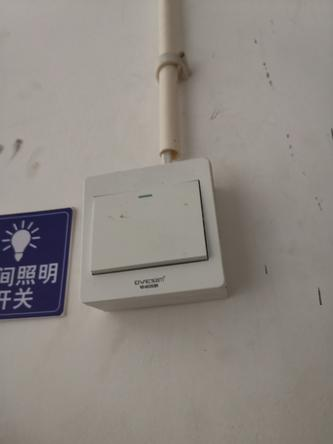switch: (89, 175, 205, 279)
